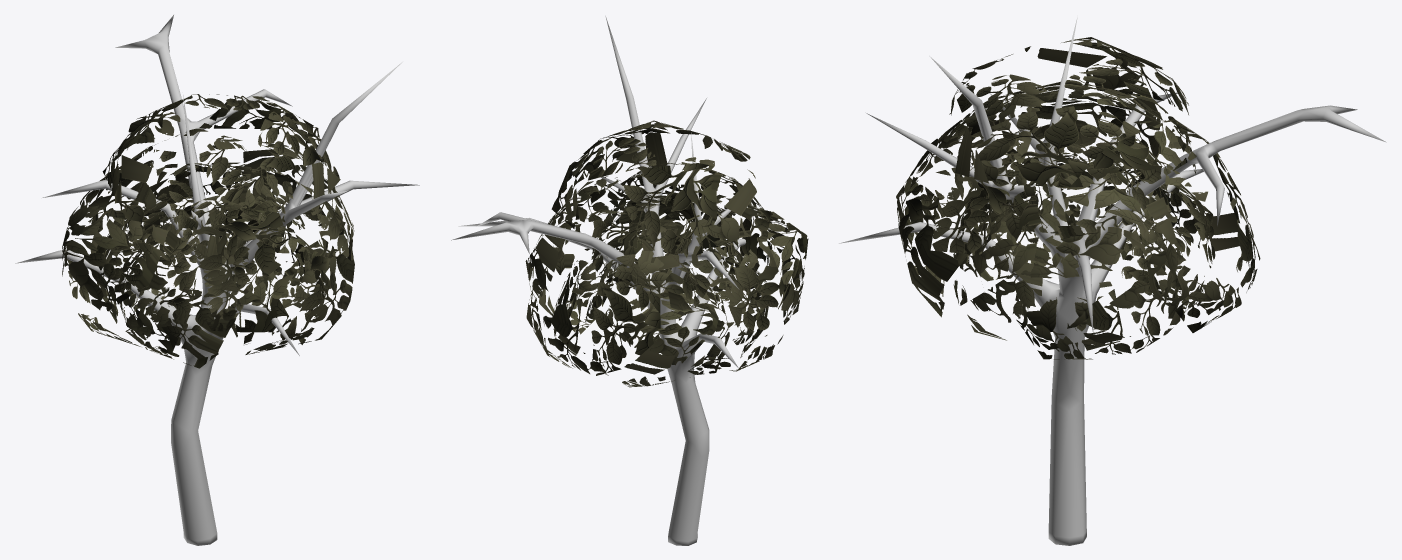
Rendered from TreeWleafs_low 1.fbx.
3 renders of one model, left to right at view 1: azimuth 30°, elevation 25°; view 2: azimuth 150°, elevation 25°; view 3: azimuth 270°, elevation 25°, orthographic. The views are drawn at different scales.
Parts seen in each view (by area): view 1: Leafs, Tree_low, Leafs.001; view 2: Leafs, Tree_low, Leafs.001; view 3: Leafs, Tree_low, Leafs.001.
Boxes of the visible parts, x1,y1,x2,y2 form: Leafs: [62, 94, 354, 354]; Tree_low: [15, 15, 419, 545]; Leafs.001: [96, 162, 327, 368]; Leafs: [525, 120, 808, 375]; Tree_low: [451, 16, 745, 545]; Leafs.001: [552, 192, 768, 387]; Leafs: [896, 37, 1260, 350]; Tree_low: [839, 17, 1386, 545]; Leafs.001: [953, 124, 1215, 359].
Size of the model in its own units: 856 by 1119 by 990.
